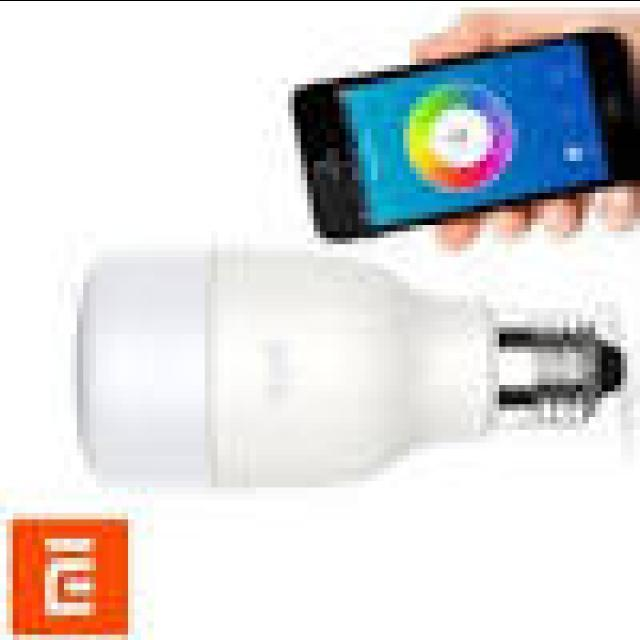light_bulb: (59, 240, 630, 514)
